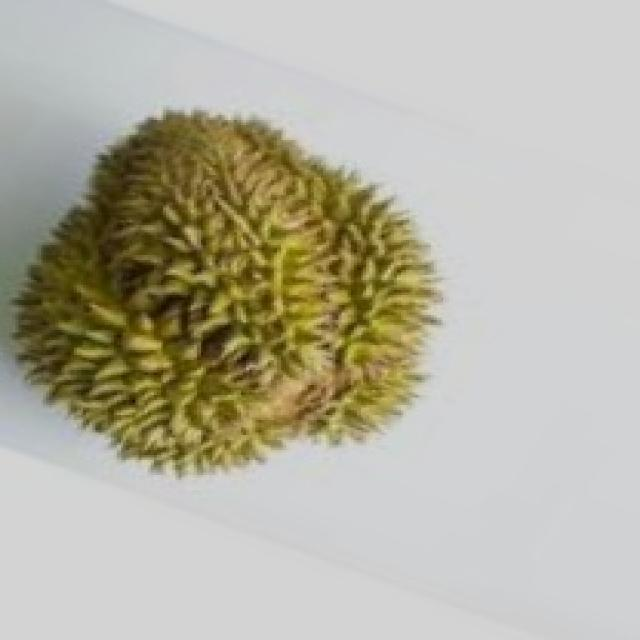fruit: (0, 100, 375, 535)
